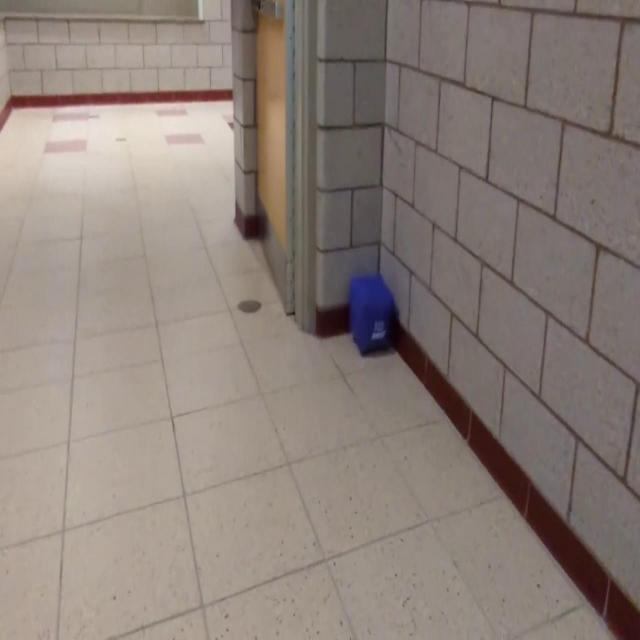frc_cube: (348, 277, 396, 359)
